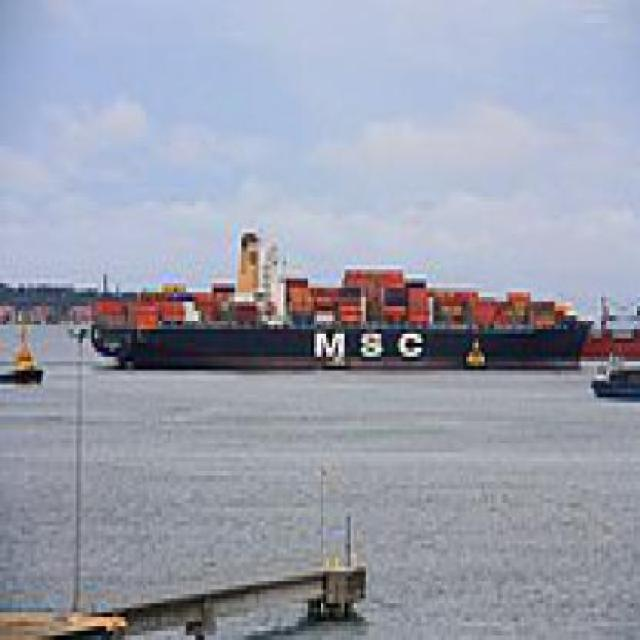container: (74, 225, 599, 380)
